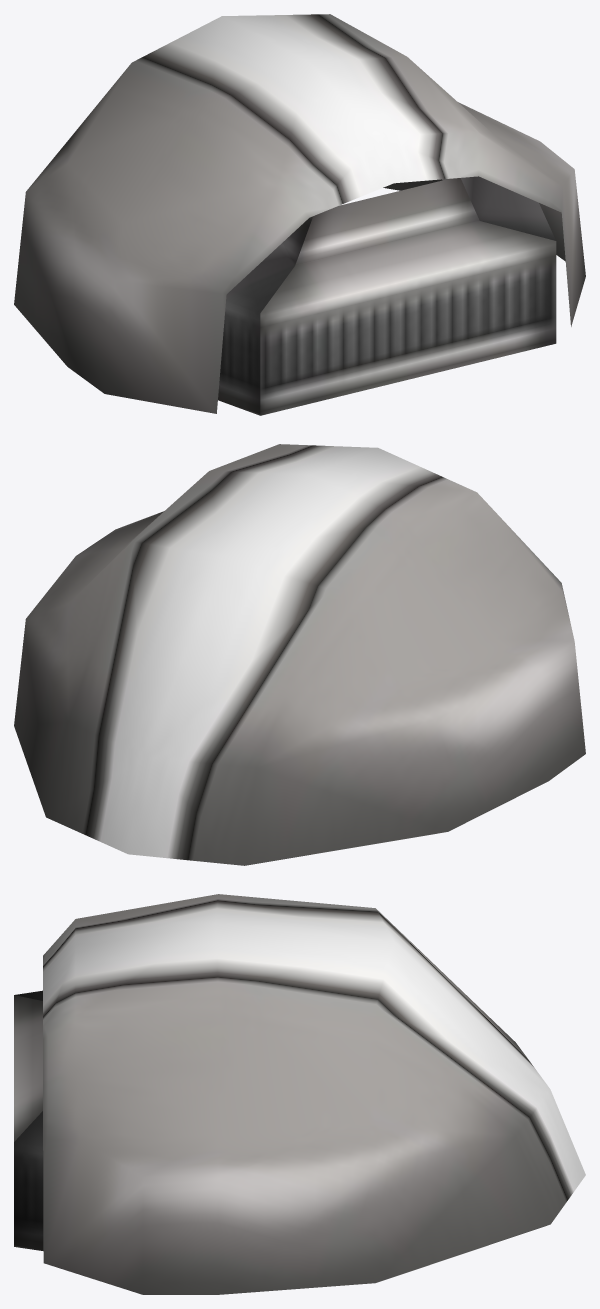
Rendered from acc_10.glb.
The picture shows the model from 3 angles, top to bottom: view 1: azimuth 30°, elevation 25°; view 2: azimuth 150°, elevation 25°; view 3: azimuth 270°, elevation 25°; orthographic projection.
Parts seen in each view (by area): view 1: vertex, Inside; view 2: vertex; view 3: vertex, Inside.
Part boxes in pixels (<box>): vertex: <box>14,14,585,413</box>; Inside: <box>218,176,556,415</box>; vertex: <box>14,444,585,865</box>; vertex: <box>43,894,585,1294</box>; Inside: <box>14,990,43,1250</box>.
Size of the model in its own units: 0.5425 by 0.2655 by 0.5473.
Materials: 2 (2 with a texture image).
